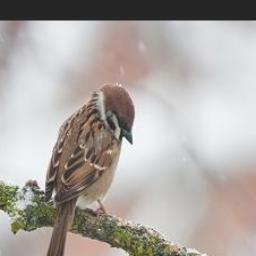Sparrow: (42, 81, 136, 256)
